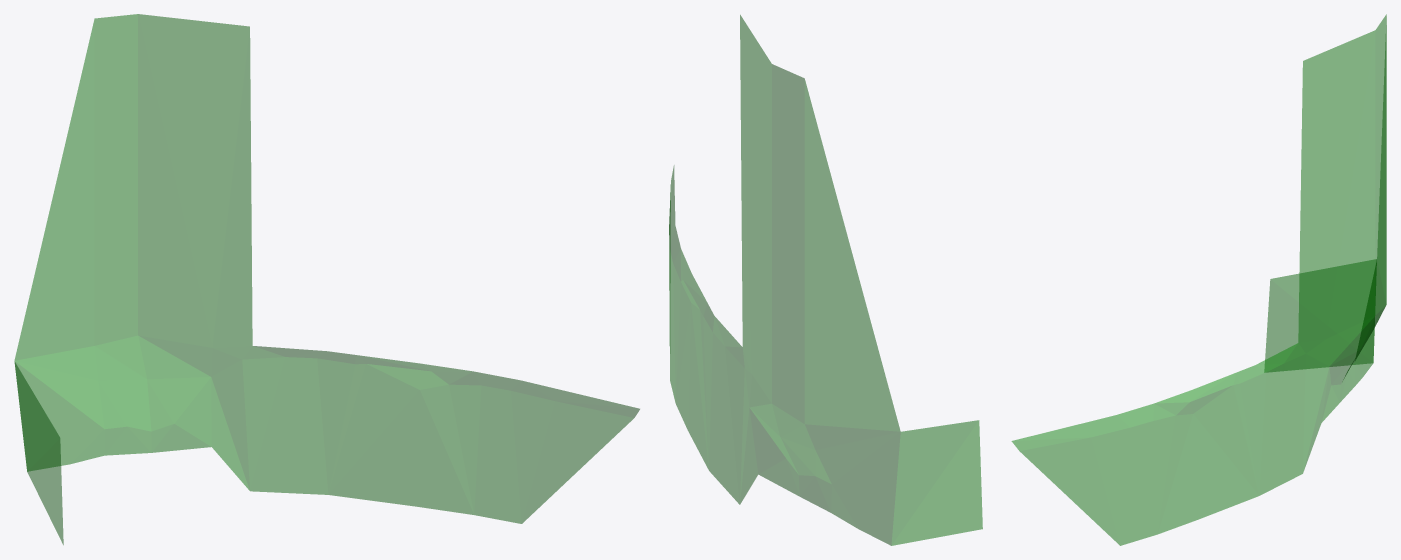
The model's file is wall.obj.
3 renders of one model, left to right at view 1: azimuth 30°, elevation 25°; view 2: azimuth 150°, elevation 25°; view 3: azimuth 270°, elevation 25°, orthographic. The views are drawn at different scales.
Size of the model in its own units: 57.15 by 58.43 by 48.12.
